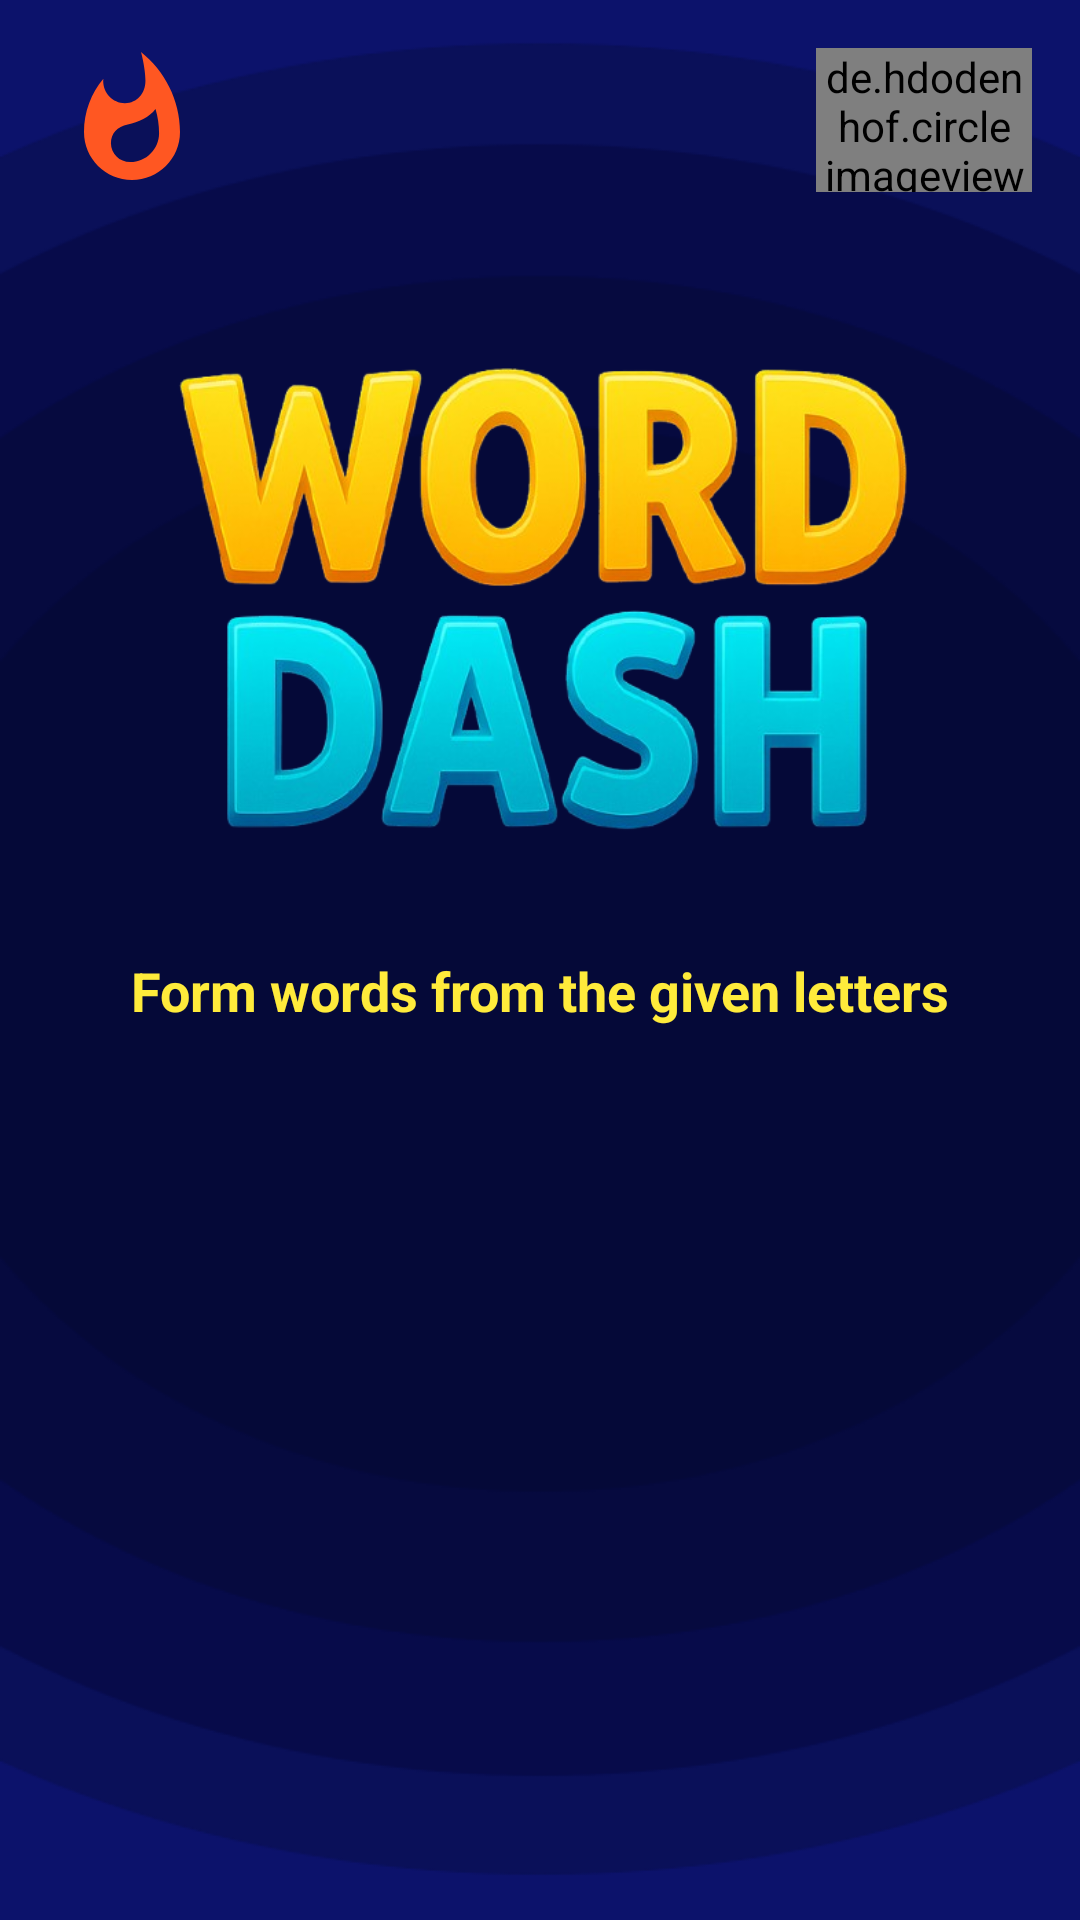

Locate icon controls on the screen. Image size 1080w x 1920h, boxes as [x1,y1,x2,y2].
streak: [84,48,180,180]
